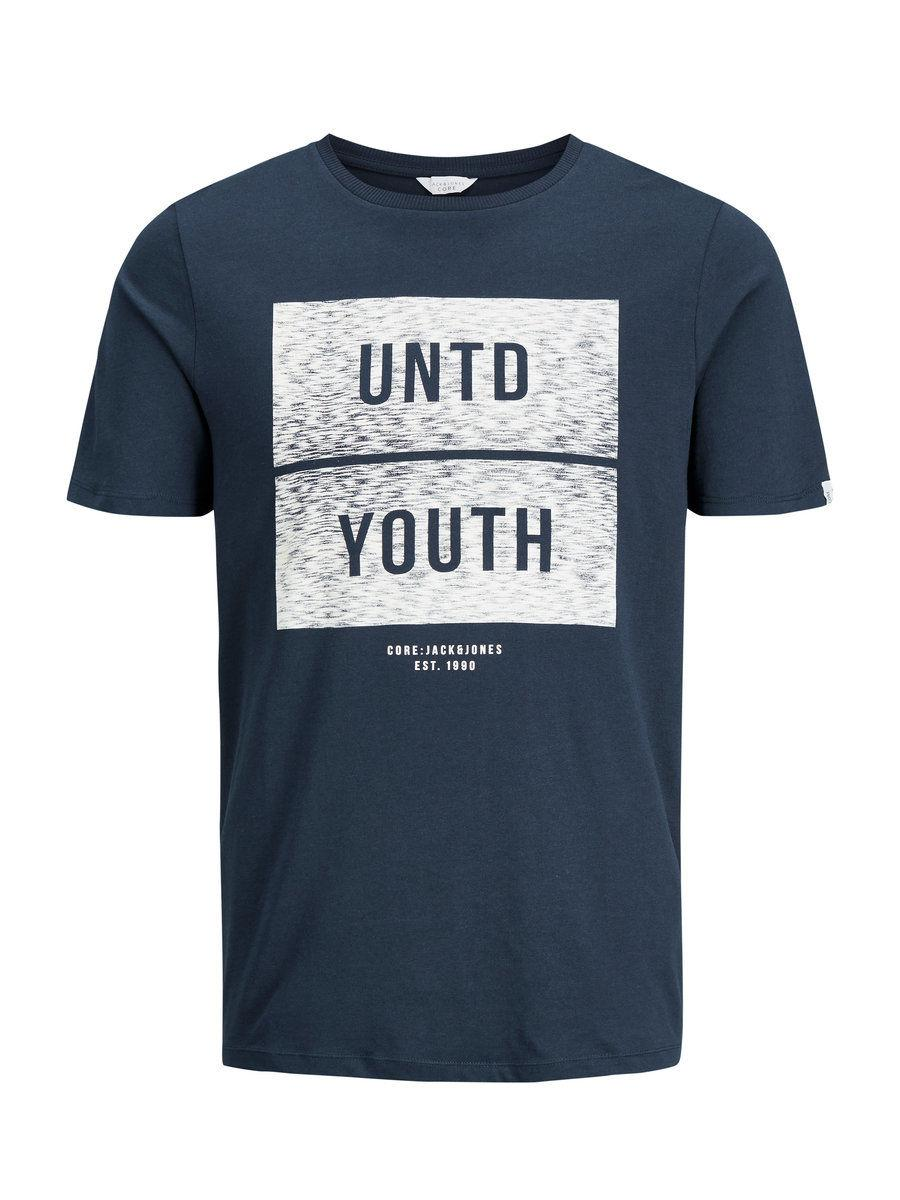teeshirt: (43, 123, 832, 1098)
